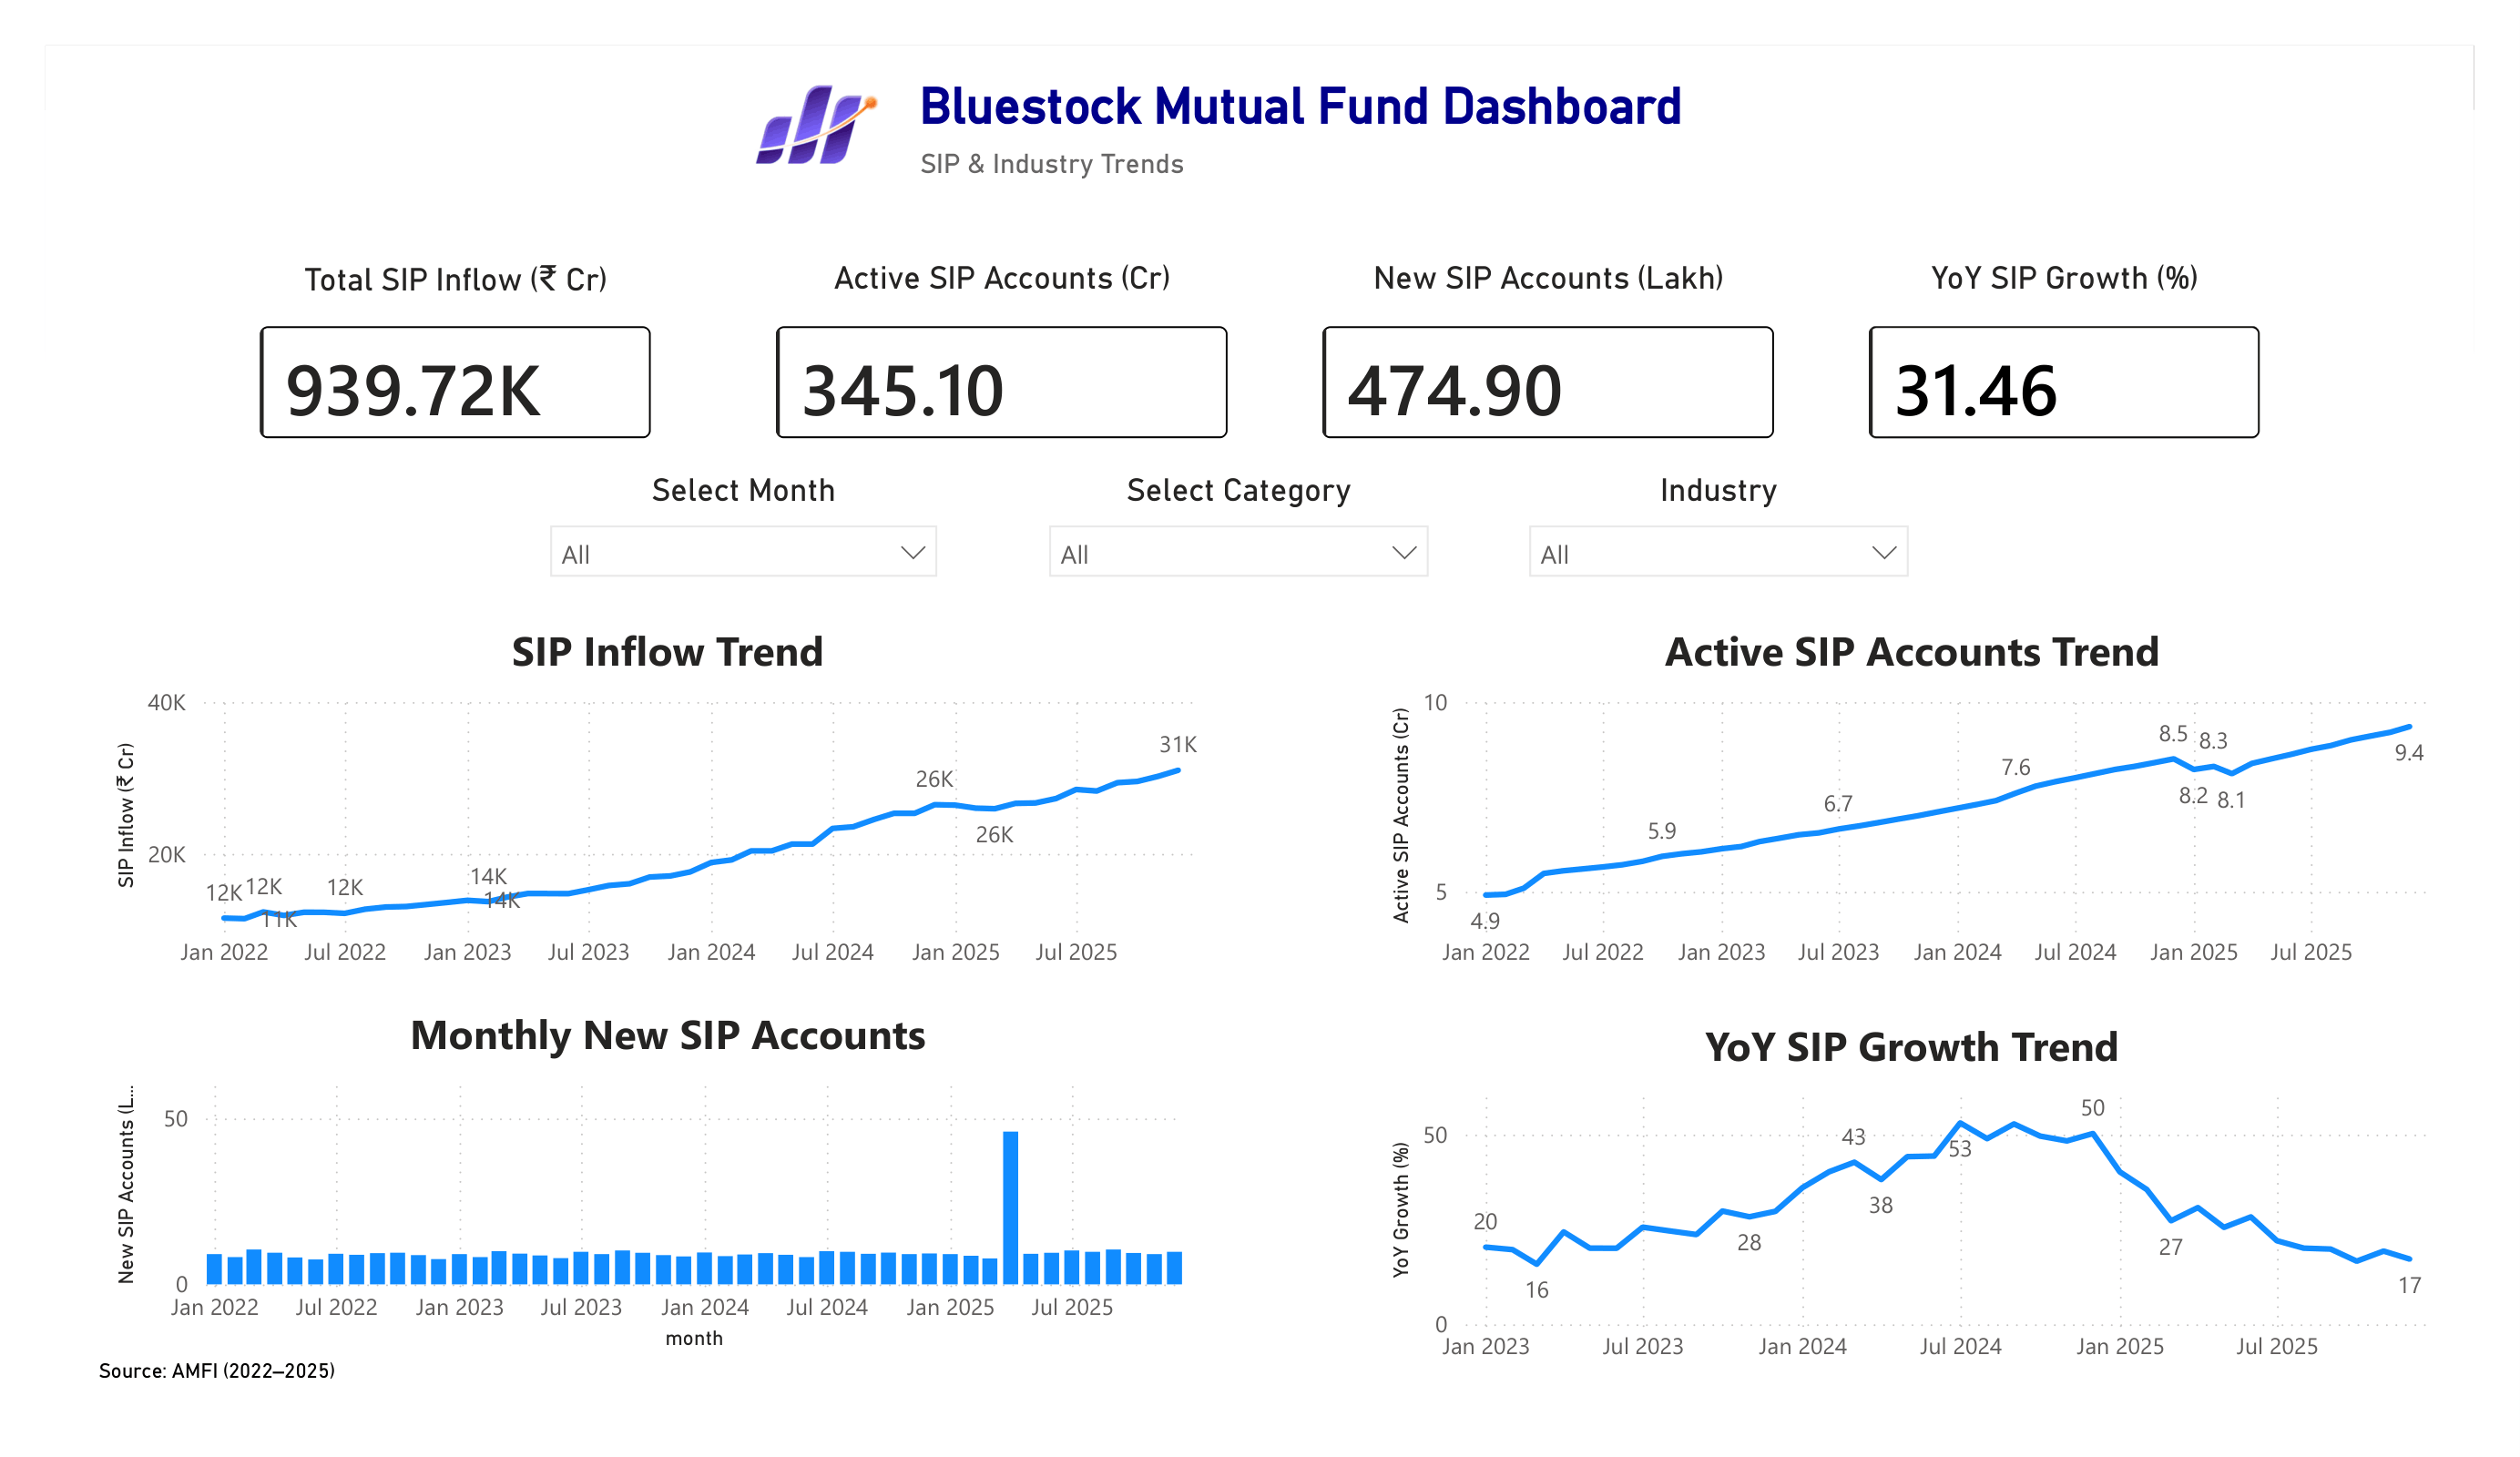

The page's visual inventory and layout, read from the dashboard file:
{"tool":"powerbi","page":{"name":"SIP & Industry Trends","canvas":[1280,720],"ordinal":3},"visuals":[{"type":"textbox","title":"Bluestock Mutual Fund Dashboard","box":[455.6,15.6,420,40],"z":1000},{"type":"cardVisual","title":"Total SIP Inflow (₹ Cr)","fields":{"Data":["clean_transactions.Total SIP Inflow"]},"box":[96,112,240,112],"z":2000},{"type":"cardVisual","title":"Active SIP Accounts (Cr)","fields":{"Data":["clean_transactions.Active SIP Accounts"]},"box":[368,112,272,112],"z":3000},{"type":"cardVisual","title":"New SIP Accounts (Lakh)","fields":{"Data":["clean_transactions.New SIP Accounts"]},"box":[656,112,272,112],"z":4000},{"type":"cardVisual","title":"YoY SIP Growth (%)","fields":{"Data":["clean_transactions.Average YoY SIP Growth"]},"box":[944,112,240,112],"z":5000},{"type":"textbox","title":"SIP & Industry Trends","box":[455.6,54.4,250,20],"z":6000},{"type":"lineChart","title":"SIP Inflow Trend","fields":{"Category":["04_monthly_sip_inflows.month"],"Y":["Sum(04_monthly_sip_inflows.sip_inflow_crore)"]},"box":[32,304,592,192],"z":7000},{"type":"slicer","title":"Select Month","fields":{"Values":["clean_nav.date.Variation.Date Hierarchy.Month"]},"box":[256,224,224,64],"z":8000},{"type":"slicer","title":"Select Category","fields":{"Values":["clean_performance.category"]},"box":[518.9,224.3,220,81.1],"z":9000},{"type":"image","box":[348.9,0,114.4,84.4],"z":10000},{"type":"textbox","title":"Source: AMFI (2022–2025)","box":[23.3,692.2,250,20],"z":11000},{"type":"slicer","title":"Industry","fields":{"Values":["clean_transactions.city_tier"]},"box":[772.2,224.3,220,81.1],"z":12000},{"type":"lineChart","title":"Active SIP Accounts Trend","fields":{"Category":["04_monthly_sip_inflows.month"],"Y":["Sum(04_monthly_sip_inflows.active_sip_accounts_crore)"]},"box":[704,304,560,192],"z":12001},{"type":"clusteredColumnChart","title":"Monthly New SIP Accounts","fields":{"Category":["04_monthly_sip_inflows.month"],"Y":["Sum(04_monthly_sip_inflows.new_sip_accounts_lakh)"]},"box":[32,506,592,186],"z":12002},{"type":"lineChart","title":"YoY SIP Growth Trend","fields":{"Category":["04_monthly_sip_inflows.month"],"Y":["Avg(04_monthly_sip_inflows.yoy_growth_pct)"]},"box":[704,512,560,192],"z":12003}]}

Visuals, with their boxes on the page's 1280x720 design canvas (x1, y1, x2, y2). These are canvas units, not pixel positions in the 2520x1457 screenshot, which may show the page scaled, cropped or inside an application window:
"Bluestock Mutual Fund Dashboard" textbox: 456,16,876,56
"Total SIP Inflow (₹ Cr)" cardVisual: 96,112,336,224
"Active SIP Accounts (Cr)" cardVisual: 368,112,640,224
"New SIP Accounts (Lakh)" cardVisual: 656,112,928,224
"YoY SIP Growth (%)" cardVisual: 944,112,1184,224
"SIP & Industry Trends" textbox: 456,54,706,74
"SIP Inflow Trend" lineChart: 32,304,624,496
"Select Month" slicer: 256,224,480,288
"Select Category" slicer: 519,224,739,305
image: 349,0,463,84
"Source: AMFI (2022–2025)" textbox: 23,692,273,712
"Industry" slicer: 772,224,992,305
"Active SIP Accounts Trend" lineChart: 704,304,1264,496
"Monthly New SIP Accounts" clusteredColumnChart: 32,506,624,692
"YoY SIP Growth Trend" lineChart: 704,512,1264,704
